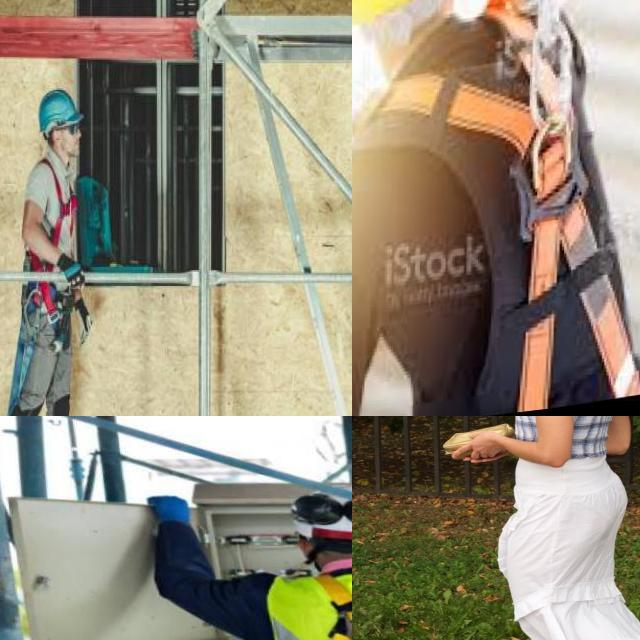Harness: (363, 0, 640, 409), (39, 157, 75, 246)
